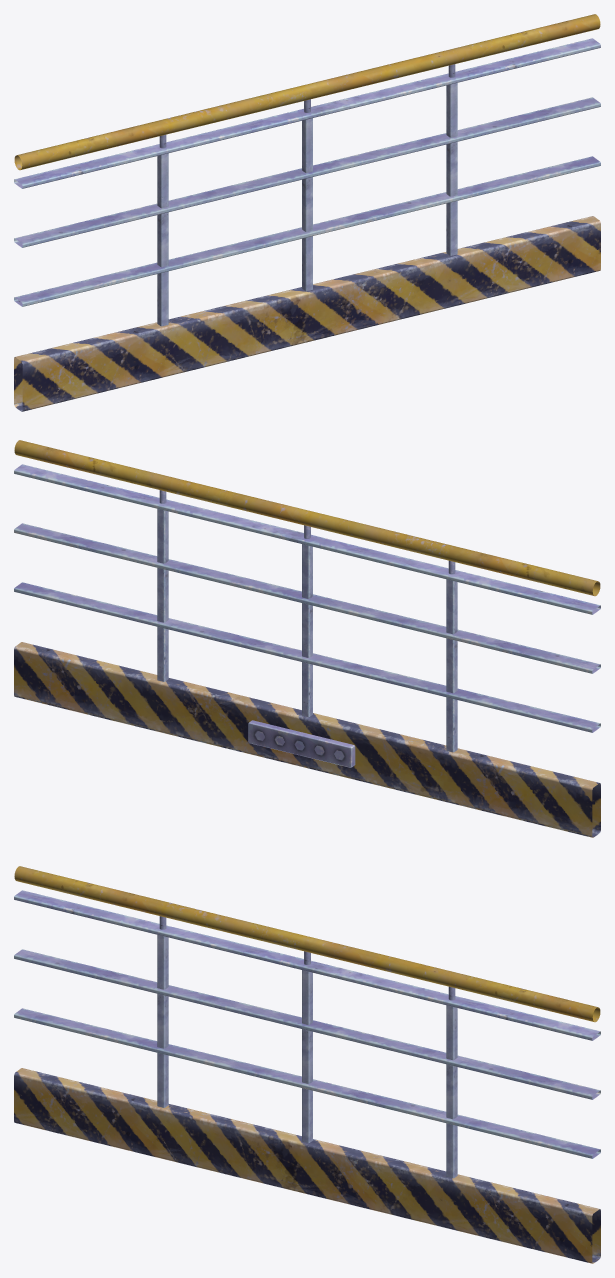
Rendered from SM_Rail_8m.fbx.
The picture shows the model from 3 angles, top to bottom: view 1: azimuth 30°, elevation 25°; view 2: azimuth 150°, elevation 25°; view 3: azimuth 330°, elevation 25°; orthographic projection.
Visible parts, largest first — view 1: SM_Rail_8m; view 2: SM_Rail_8m; view 3: SM_Rail_8m.
Part boxes in pixels (box(x1,y1,x2,y2)): SM_Rail_8m: box(14, 14, 600, 411); SM_Rail_8m: box(14, 440, 600, 837); SM_Rail_8m: box(14, 866, 600, 1263).
Bounding box in the file's own units: 800 × 336 × 29.12.
